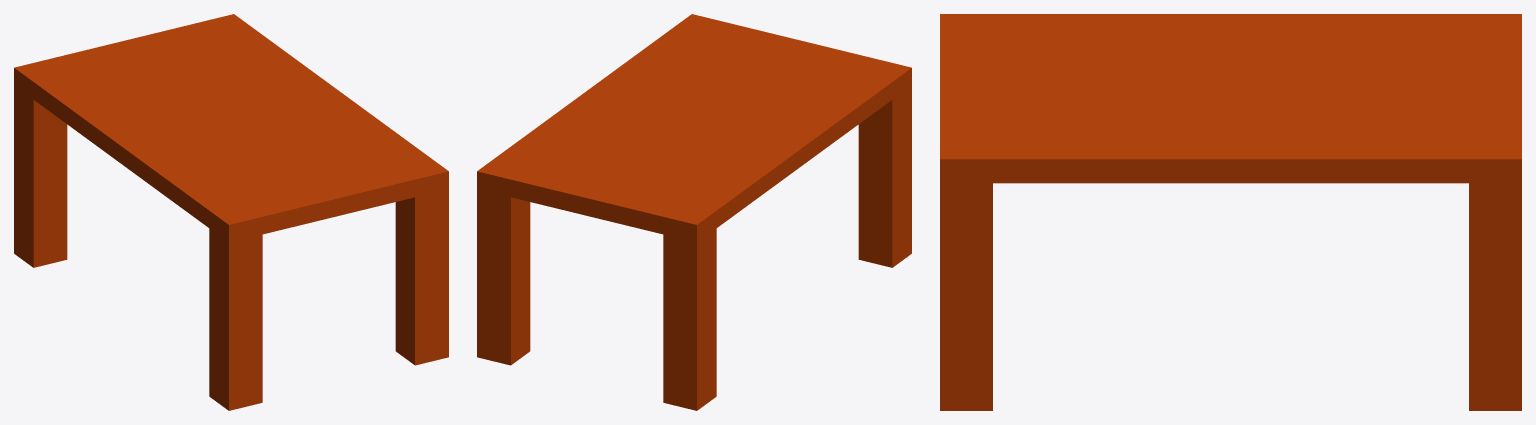
Rendered from table.fbx.
3 renders of one model, left to right at view 1: azimuth 30°, elevation 25°; view 2: azimuth 150°, elevation 25°; view 3: azimuth 270°, elevation 25°, orthographic. The views are drawn at different scales.
Parts seen in each view (by area): view 1: Cube, Cube.004, Cube.001, Cube.003; view 2: Cube, Cube.003, Cube.002, Cube.004; view 3: Cube, Cube.002, Cube.001.
Part boxes in pixels (bbox=[...]): Cube: bbox=[14, 14, 448, 242]; Cube.004: bbox=[209, 220, 262, 410]; Cube.001: bbox=[395, 189, 448, 365]; Cube.003: bbox=[14, 77, 67, 267]; Cube: bbox=[477, 14, 911, 242]; Cube.003: bbox=[663, 220, 716, 410]; Cube.002: bbox=[477, 180, 530, 365]; Cube.004: bbox=[858, 85, 911, 267]; Cube: bbox=[940, 14, 1521, 183]; Cube.002: bbox=[1469, 171, 1521, 410]; Cube.001: bbox=[940, 171, 992, 410].
Bounding box in the file's own units: 1300 × 1050 × 2200.
